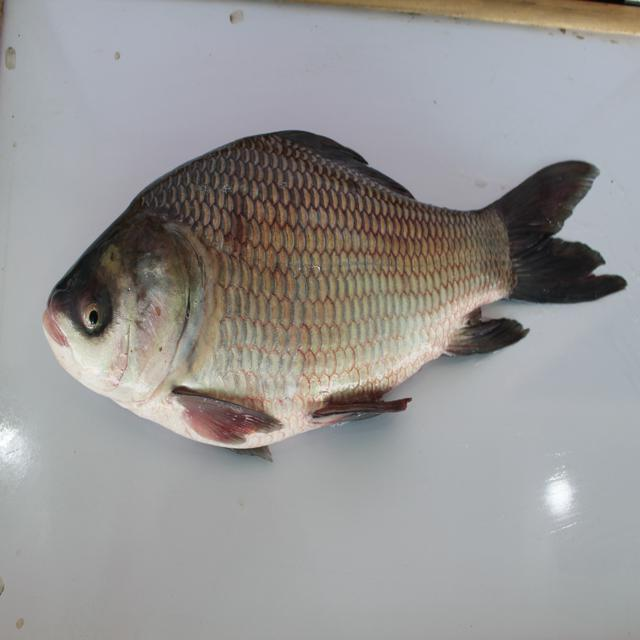Catla: (34, 124, 636, 468)
